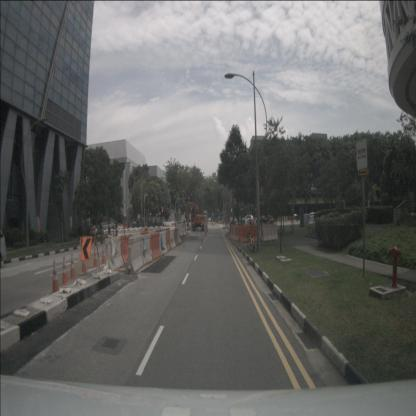movable_object-barrier: (124, 235, 146, 276), (104, 235, 124, 272), (138, 234, 153, 267), (119, 234, 133, 264), (148, 232, 162, 262), (258, 223, 278, 241), (239, 224, 258, 242), (130, 233, 142, 260), (158, 231, 168, 257), (168, 228, 177, 250), (164, 230, 172, 252), (141, 232, 149, 248), (147, 230, 156, 244), (176, 227, 183, 244), (173, 228, 179, 247), (155, 230, 163, 242), (234, 223, 239, 241), (230, 224, 235, 242), (161, 228, 168, 239), (176, 223, 183, 233), (122, 221, 129, 228), (117, 223, 123, 229), (183, 222, 186, 232), (290, 216, 295, 221)
movable_object-trafficcone: (50, 260, 60, 294), (60, 255, 70, 285), (68, 252, 79, 279), (92, 245, 100, 268), (82, 252, 89, 274), (101, 240, 107, 264), (201, 233, 204, 243), (204, 231, 207, 238)
vehicle-bicycle: (247, 228, 255, 253)
vehicle-car: (0, 228, 7, 269), (241, 214, 254, 224)
